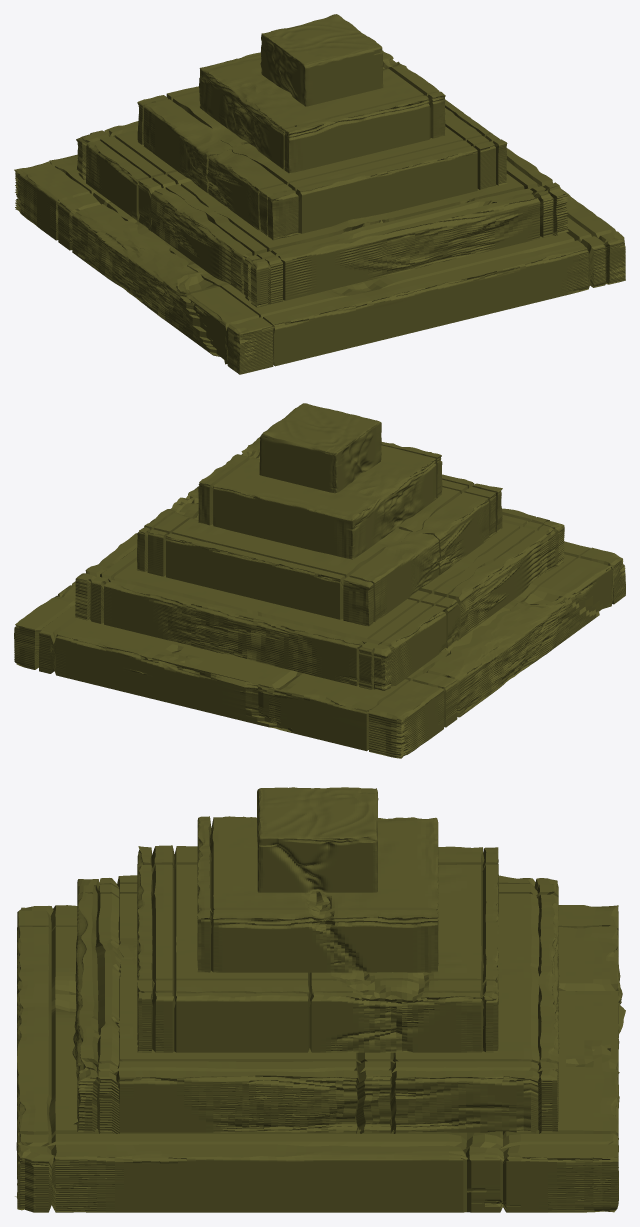
File: TheStructure.fbx
The picture shows the model from 3 angles, top to bottom: view 1: azimuth 30°, elevation 25°; view 2: azimuth 150°, elevation 25°; view 3: azimuth 270°, elevation 25°; orthographic projection. The views are drawn at different scales.
Parts seen in each view (by area): view 1: Cube, Cube.001, Cube.002, Cube.003, Cube.004; view 2: Cube, Cube.001, Cube.002, Cube.003, Cube.004; view 3: Cube, Cube.001, Cube.002, Cube.003, Cube.004.
Part boxes in pixels (x1=…): Cube: x1=14, y1=154, x2=625, y2=374; Cube.001: x1=76, y1=121, x2=568, y2=307; Cube.002: x1=137, y1=60, x2=507, y2=240; Cube.003: x1=199, y1=50, x2=445, y2=173; Cube.004: x1=260, y1=14, x2=383, y2=106; Cube: x1=14, y1=541, x2=625, y2=758; Cube.001: x1=75, y1=508, x2=564, y2=692; Cube.002: x1=137, y1=453, x2=502, y2=626; Cube.003: x1=198, y1=437, x2=442, y2=559; Cube.004: x1=259, y1=403, x2=381, y2=493; Cube: x1=15, y1=905, x2=625, y2=1212; Cube.001: x1=72, y1=875, x2=559, y2=1133; Cube.002: x1=137, y1=845, x2=498, y2=1052; Cube.003: x1=197, y1=816, x2=438, y2=972; Cube.004: x1=257, y1=787, x2=378, y2=892.
Size of the model in its own units: 2009 by 1012 by 2034.
